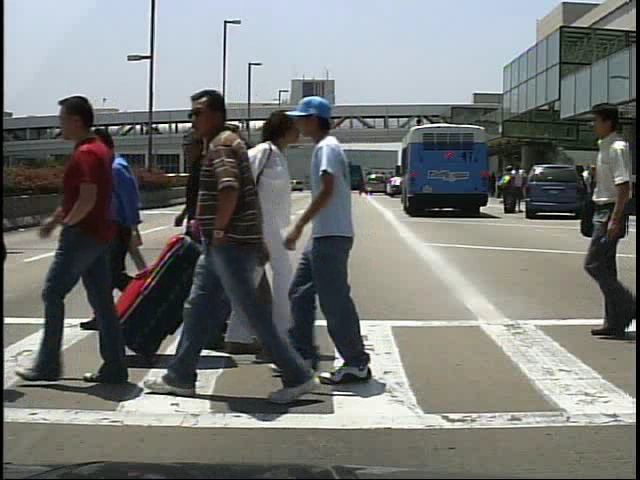person: (176, 84, 310, 423), (26, 91, 145, 389), (191, 106, 306, 363), (297, 104, 397, 385), (73, 122, 155, 342), (566, 103, 638, 342), (207, 134, 281, 330), (197, 121, 255, 361), (171, 129, 243, 322), (193, 186, 235, 318), (582, 166, 602, 218), (498, 166, 516, 219), (514, 165, 530, 215)
